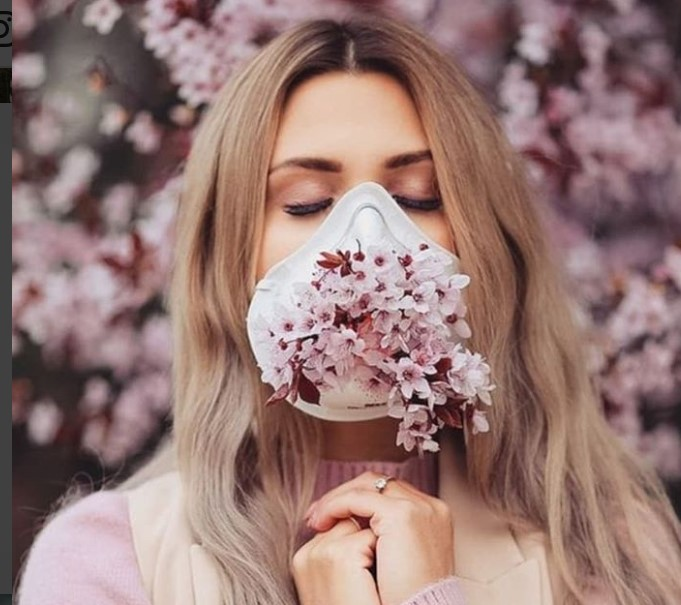face_with_mask: (221, 27, 509, 453)
